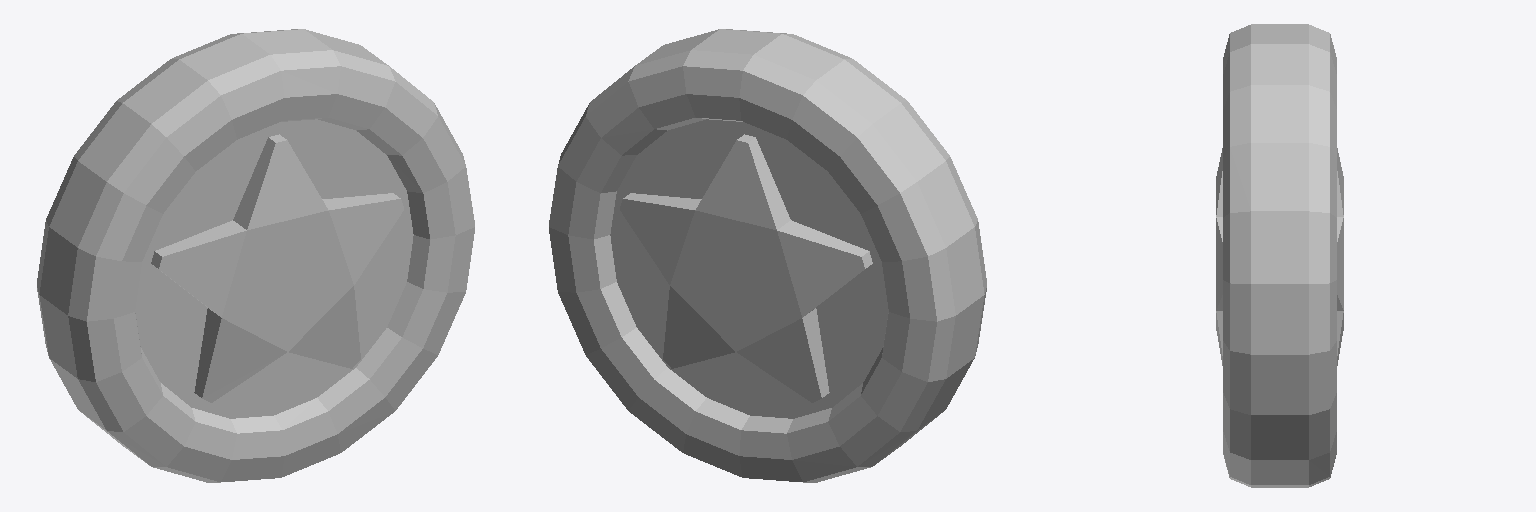
Rendered from coin.obj.
3 views of the same model, side by side, from view 1: azimuth 30°, elevation 25°; view 2: azimuth 150°, elevation 25°; view 3: azimuth 270°, elevation 25° (orthographic).
Visible parts, largest first — view 1: coin; view 2: coin; view 3: coin.
Boxes of the visible parts, box(x1,y1,x2,y2) form: coin: box(37, 29, 474, 482); coin: box(549, 29, 986, 482); coin: box(1216, 24, 1343, 487).
Size of the model in its own units: 0.5754 by 0.576 by 0.1572.